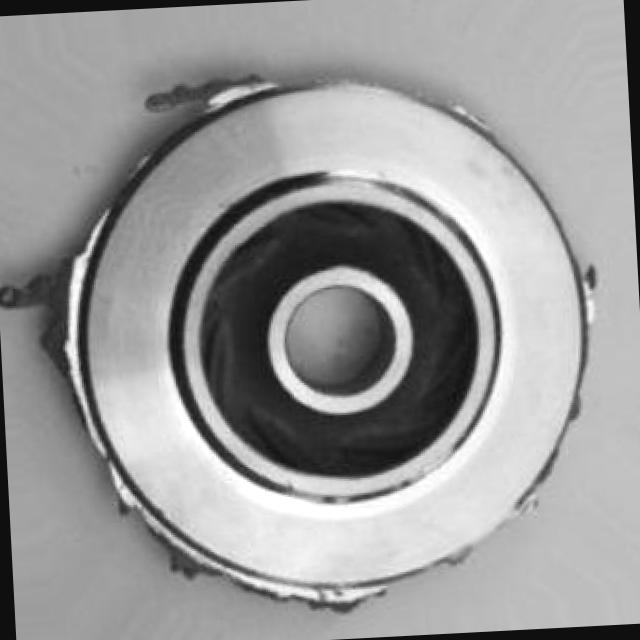Defect: (0, 266, 85, 361), (146, 67, 284, 119)
